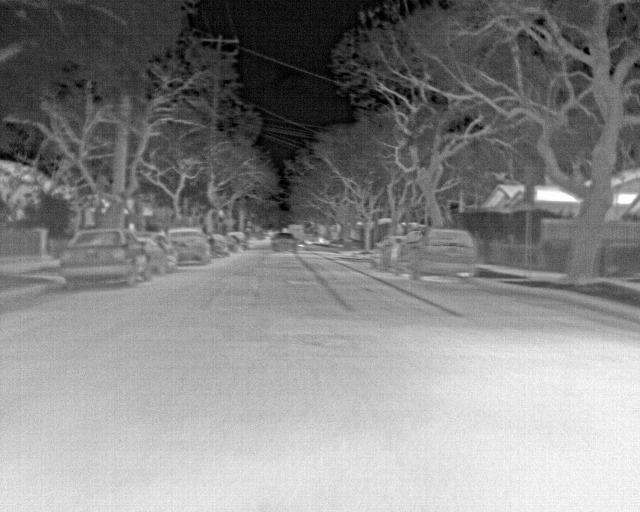car: (58, 227, 146, 293), (394, 227, 478, 283), (175, 225, 210, 267), (141, 238, 169, 272), (155, 228, 176, 272), (379, 234, 403, 271), (270, 232, 298, 252), (211, 233, 228, 257), (236, 229, 249, 250), (226, 234, 238, 254)
